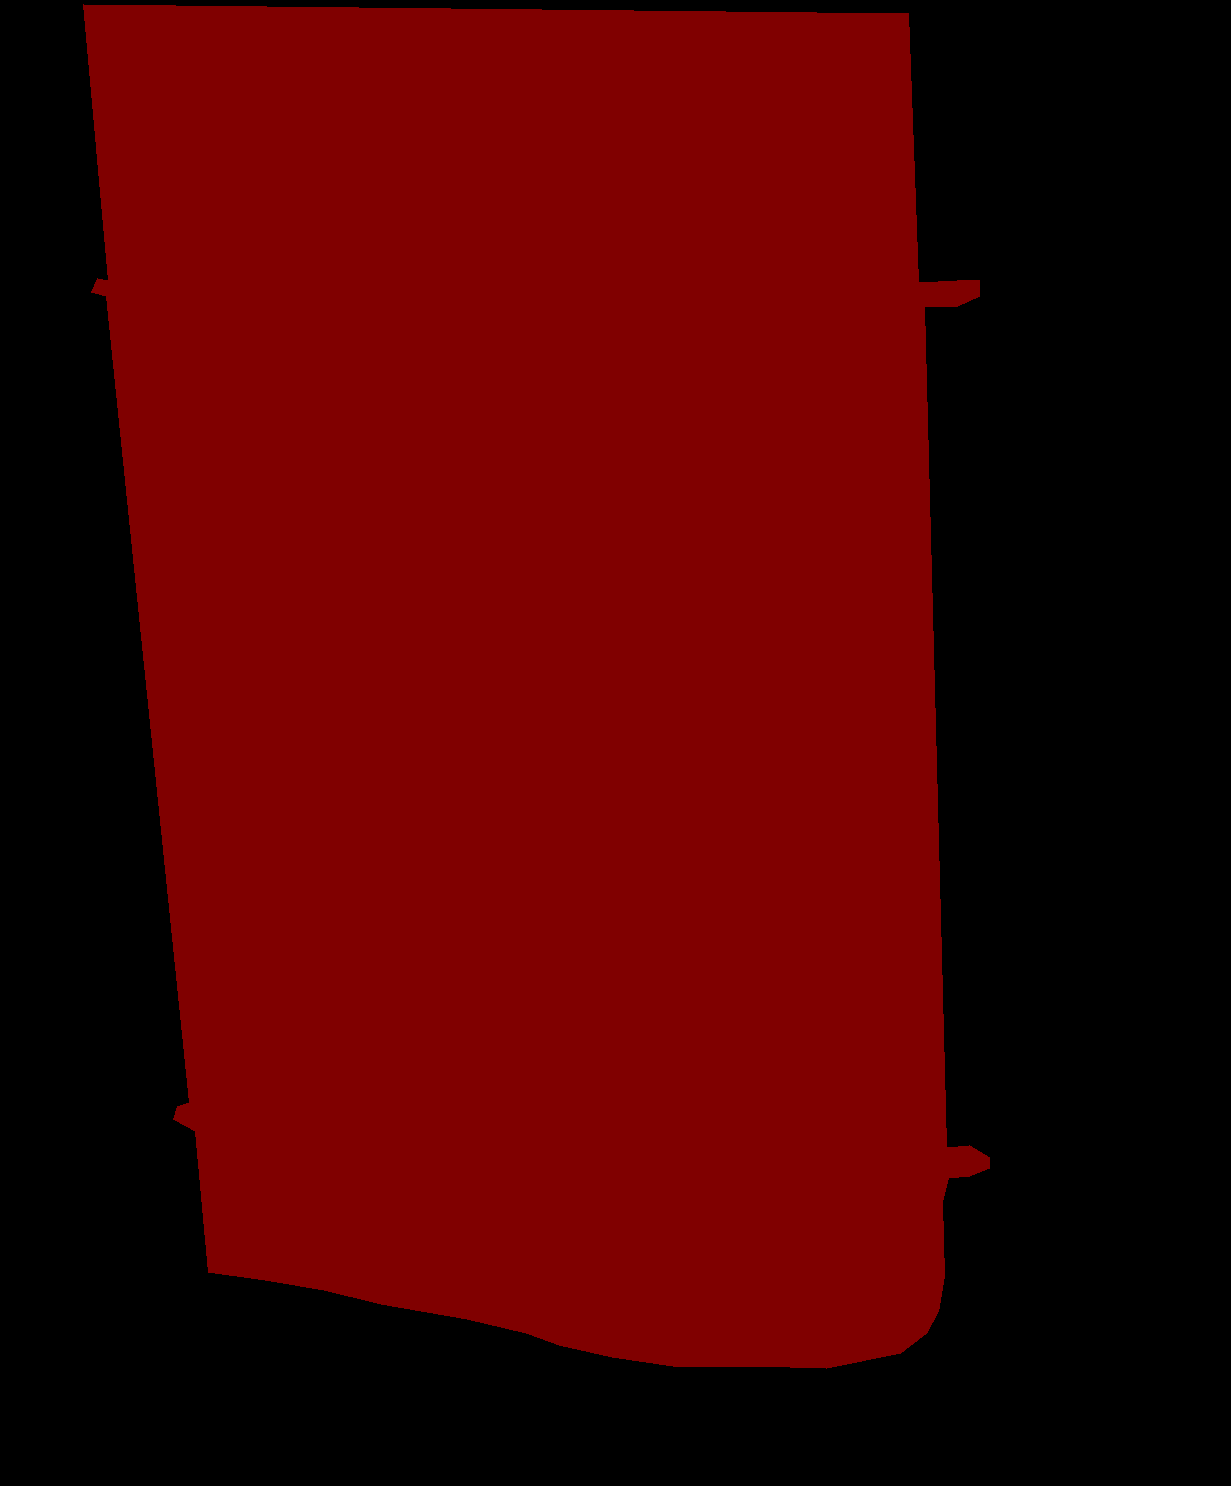sign: (83, 4, 989, 1368)
